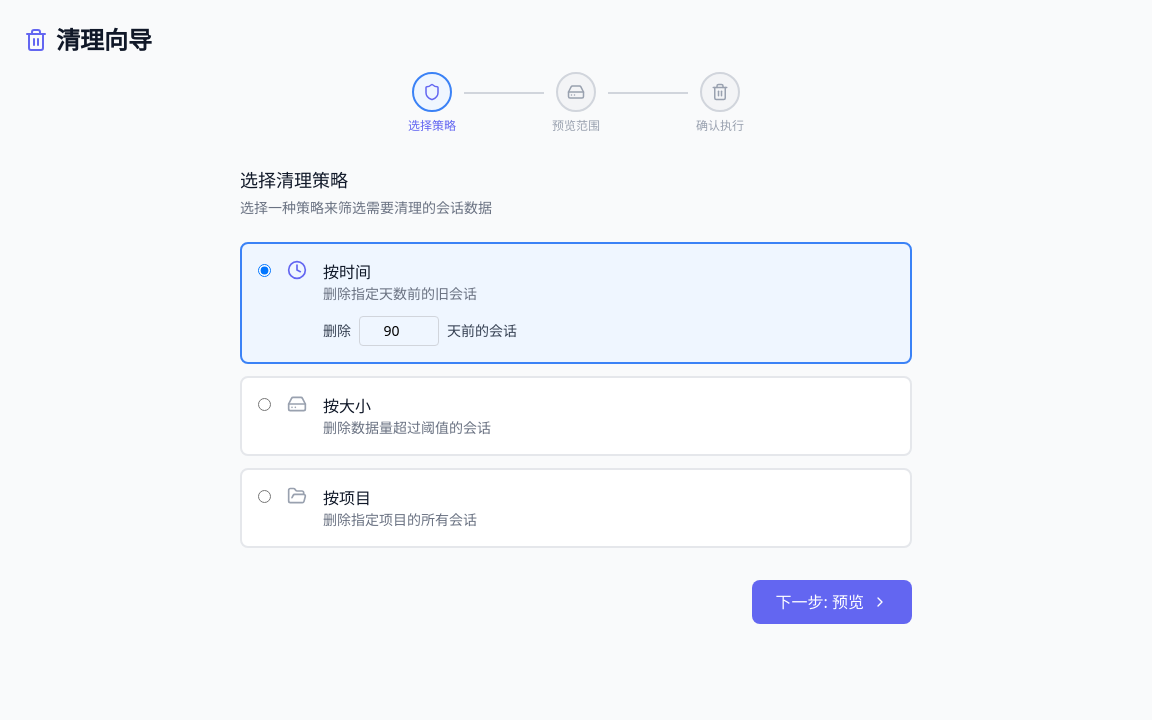
Cleanup 预览口径与加载态 › v2 预览也显示 v1.3.5 的「共 Part」，不出现「消息行数」
What coordinates should you click on to do the following:
click the button "下一步: 预览"
I would click on:
 (832, 602)
Its box is [752,580,912,624].
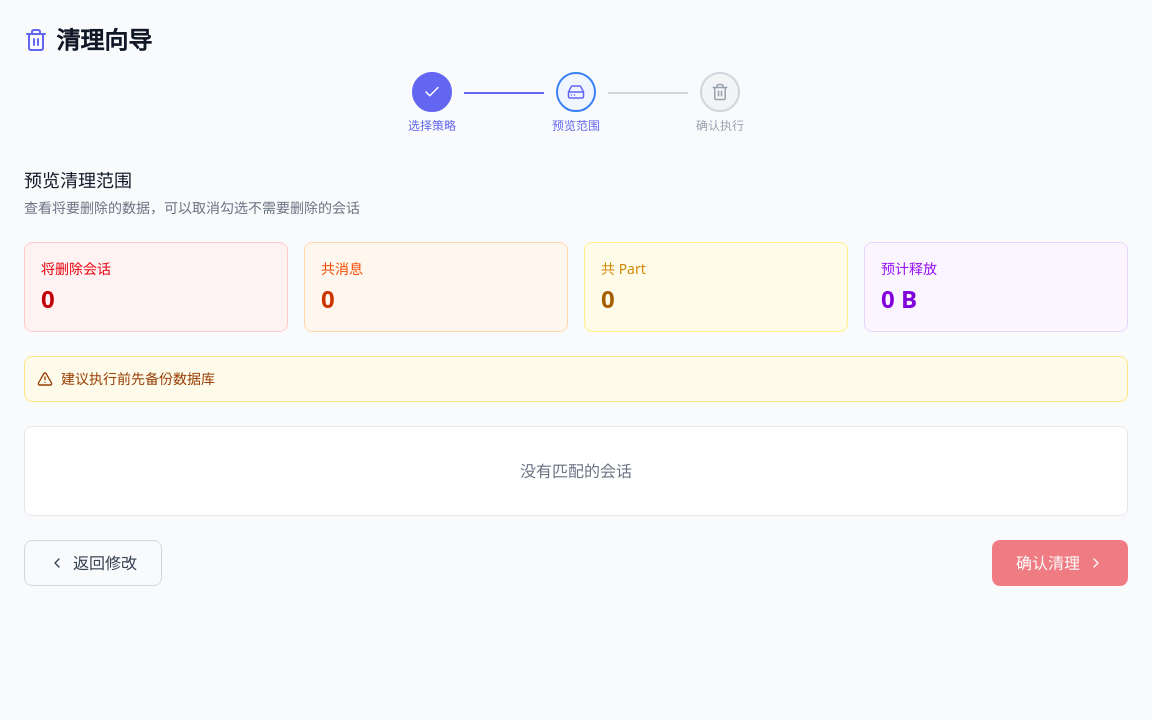
Expected: the text "共 Part" is shown, [601,259,646,278]
